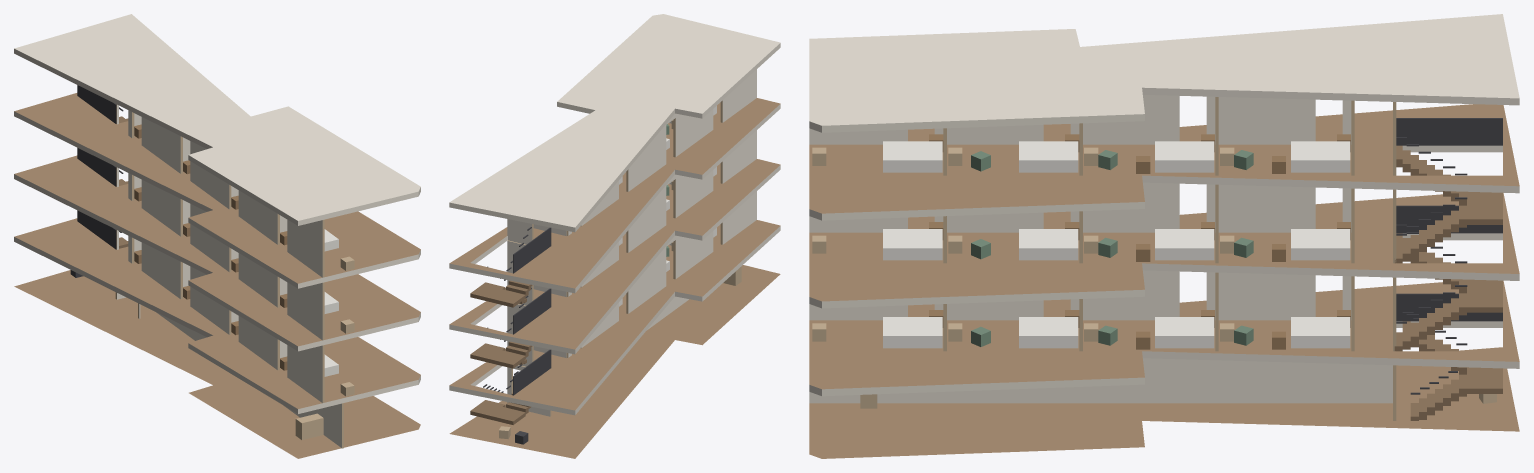
Rendered from interior.glb.
3 renders of one model, left to right at view 1: azimuth 30°, elevation 25°; view 2: azimuth 150°, elevation 25°; view 3: azimuth 270°, elevation 25°, orthographic. The views are drawn at different scales.
Visible parts, largest first — view 1: slabs, partitions, stair, coarse-s1, coarse-s3, coarse-s2, coarse-s0; view 2: slabs, partitions, stair, coarse-s0; view 3: slabs, partitions, stair, coarse-s1, coarse-s3, coarse-s2.
Boxes of the visible parts, x1,y1,x2,y2 form: slabs: (14, 14, 420, 458); partitions: (115, 104, 343, 448); stair: (77, 85, 128, 249); coarse-s1: (134, 250, 354, 396); coarse-s3: (134, 124, 354, 270); coarse-s2: (134, 187, 354, 333); coarse-s0: (70, 270, 323, 439); slabs: (449, 14, 780, 458); partitions: (507, 69, 756, 416); stair: (470, 227, 551, 424); coarse-s0: (499, 266, 741, 444); slabs: (809, 14, 1519, 458); partitions: (809, 94, 1396, 420); stair: (1394, 118, 1502, 420); coarse-s1: (812, 310, 1350, 349); coarse-s3: (812, 134, 1350, 173); coarse-s2: (812, 222, 1350, 261).
Bounding box in the file's own units: 8.87 × 12.35 × 23.83.
